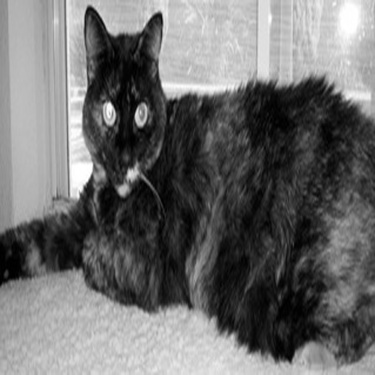cat: (7, 4, 370, 370)
